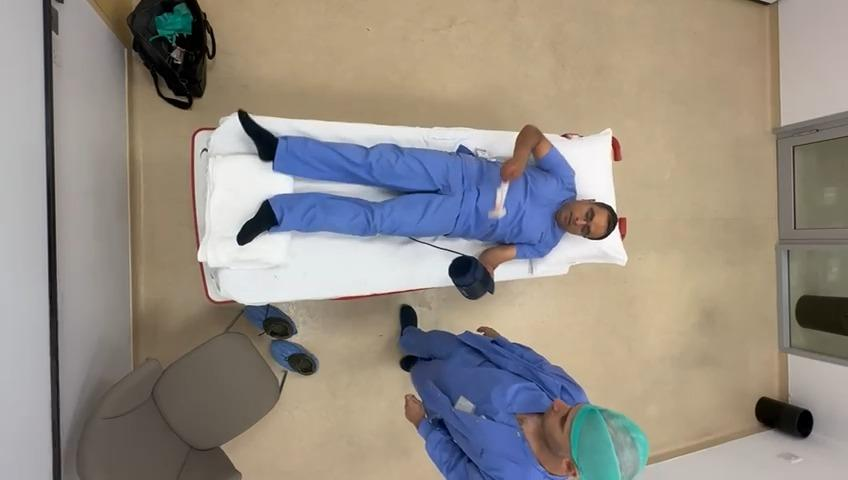bed: (192, 116, 626, 302)
prepstick: (489, 181, 510, 219)
tourniquet: (449, 255, 495, 299)
